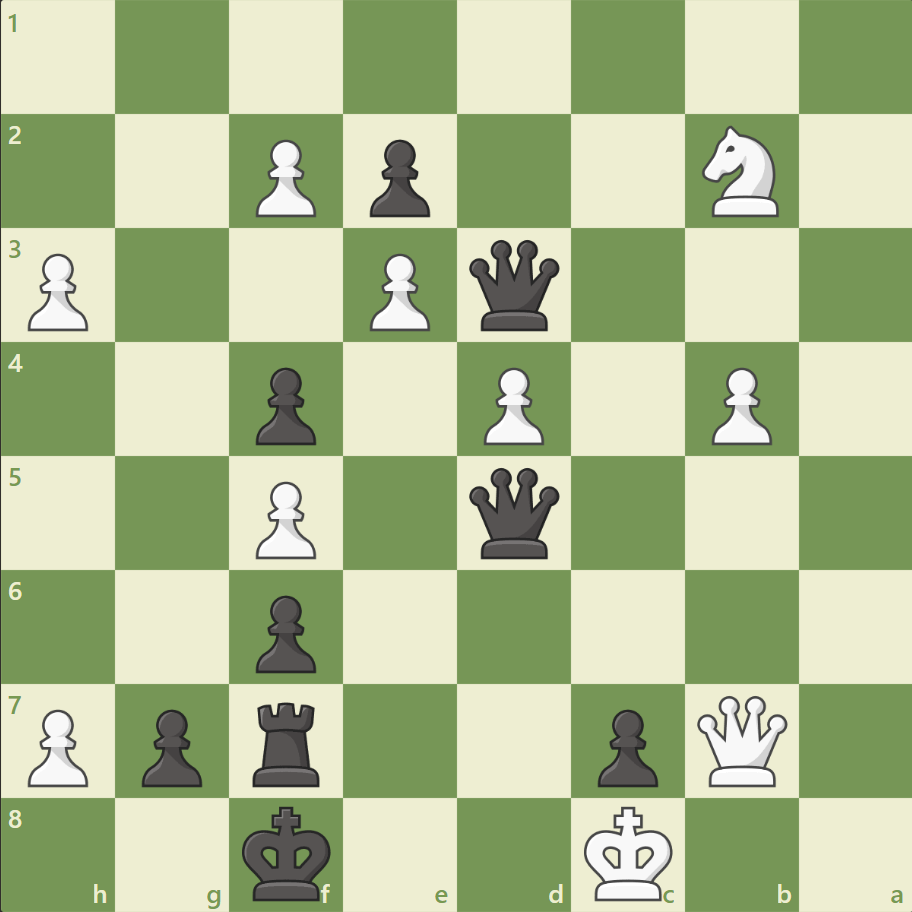K: (579, 798, 679, 906)
N: (692, 121, 789, 223)
P: (20, 700, 95, 791), (247, 473, 322, 564), (701, 359, 776, 450), (474, 359, 549, 450), (20, 246, 95, 337), (247, 132, 322, 223), (361, 246, 435, 337)
Q: (691, 690, 790, 789)
k: (238, 798, 338, 906)
p: (133, 700, 208, 791), (247, 586, 322, 677), (247, 359, 322, 450), (588, 700, 662, 791), (361, 132, 435, 223)
q: (464, 463, 563, 562), (464, 236, 563, 335)
r: (246, 693, 329, 790)
